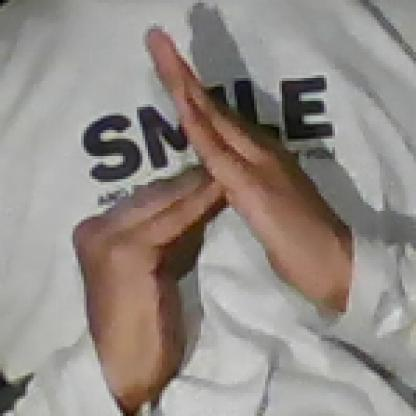Z: (72, 19, 314, 389)
